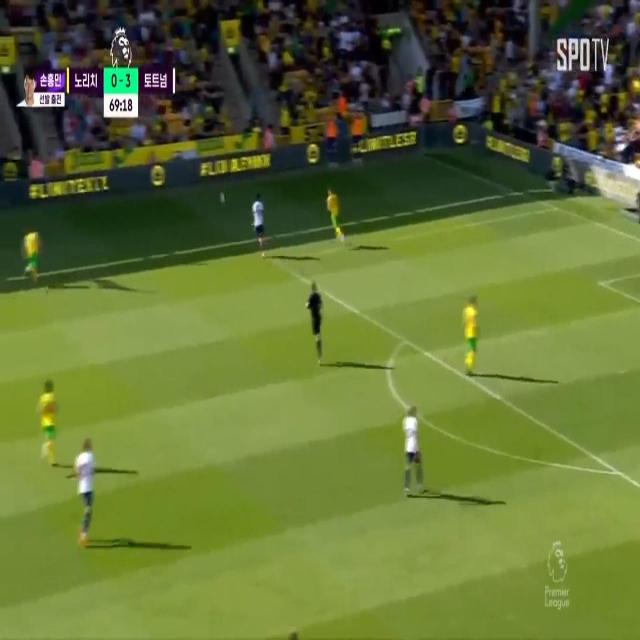ball: (216, 187, 228, 211)
player: (36, 376, 60, 469), (402, 404, 422, 498), (77, 433, 93, 539), (462, 287, 479, 380), (323, 185, 347, 243), (22, 226, 40, 286), (251, 190, 268, 253), (250, 190, 268, 249)
referee: (308, 276, 322, 354)
